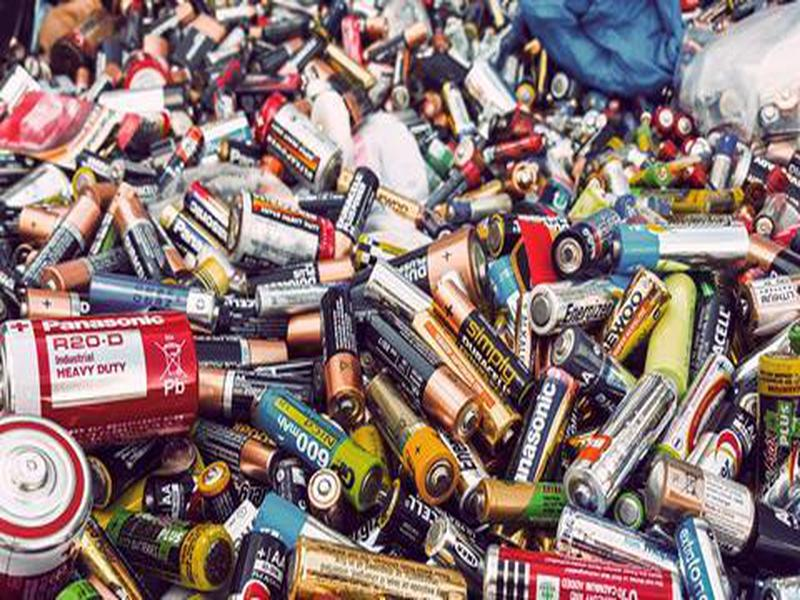battery: (1, 306, 211, 444), (245, 378, 390, 514), (353, 304, 485, 439), (559, 371, 680, 518), (428, 274, 543, 408), (359, 373, 464, 504), (644, 446, 755, 560), (244, 85, 346, 194), (225, 186, 344, 275), (602, 212, 757, 280), (84, 263, 227, 333), (105, 186, 182, 289), (314, 284, 368, 421)
